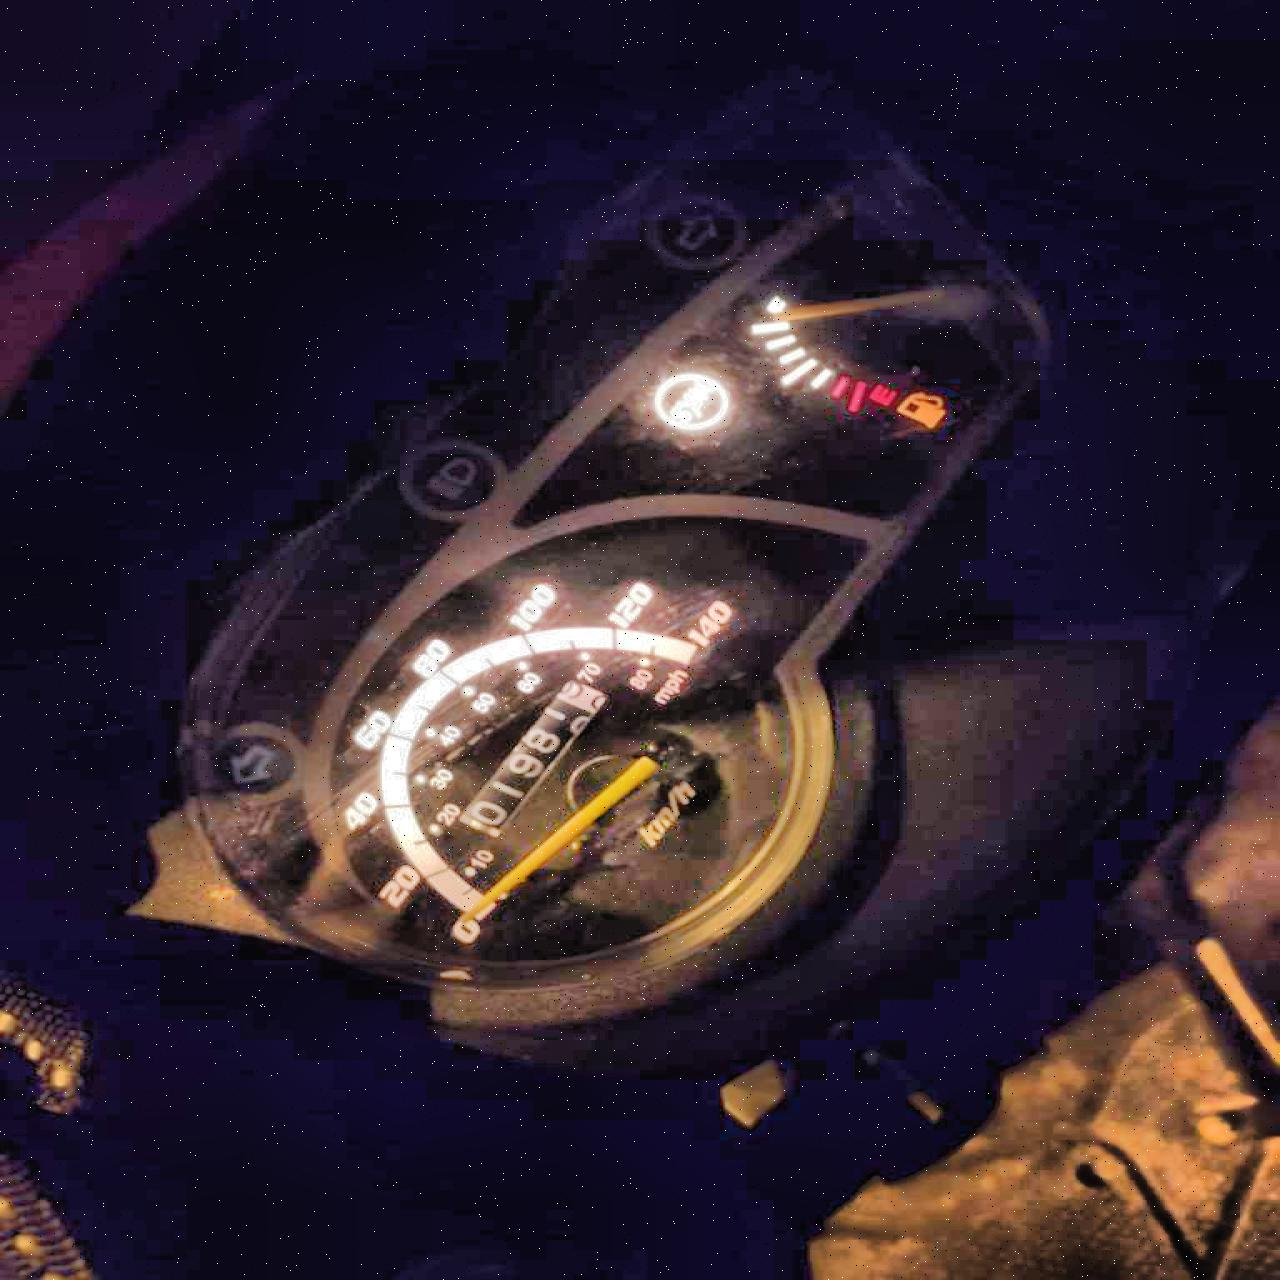0: (469, 798, 504, 824), (477, 690, 496, 704), (450, 803, 462, 816), (450, 723, 459, 736), (522, 675, 540, 681)
1: (486, 778, 522, 796), (537, 703, 568, 721)
5: (470, 699, 490, 713)
6: (513, 679, 533, 693)
8: (522, 728, 557, 751)
9: (505, 753, 542, 775), (557, 678, 584, 696)
odometer: (450, 675, 617, 840)
